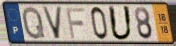0: (90, 6, 109, 41)
8: (134, 6, 154, 41)
F: (65, 6, 86, 40)
Q: (21, 5, 47, 41)
U: (106, 5, 134, 42)
V: (40, 5, 64, 40)
